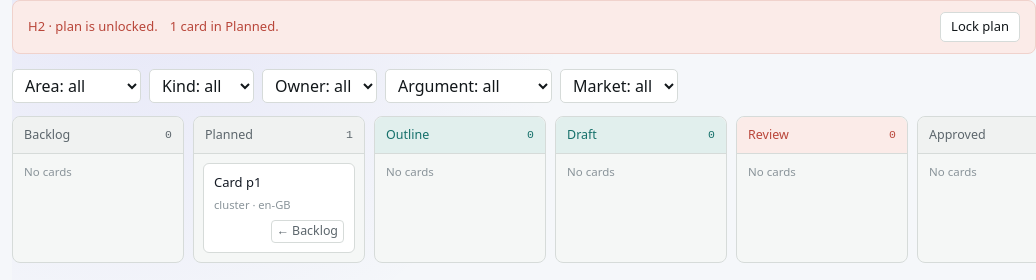
Test case: V3 Content Hub plan board › shows the unlocked H2 banner and locks through the existing lock endpoint
The width and height of the screenshot is (1036, 280).
Check: the element with test id "column-backlog" is shown, box [12, 116, 184, 263]
Check: the text "H2 · plan is unlocked." is shown, box [28, 17, 158, 36]
What coordinates should you click on to do the following:
click the button "Lock plan"
I would click on:
 (980, 27)
Its box is [940, 12, 1020, 42].
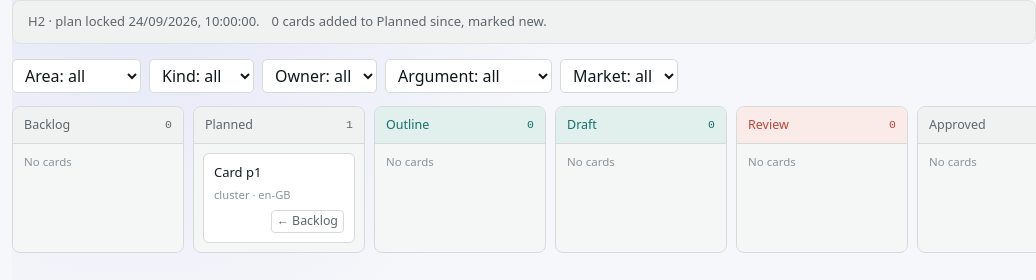
Check: the text "H2 · plan locked 24/09/2026, 10:00:00." is shown, box [28, 12, 260, 32]
Check: the button "Lock plan" is gone
